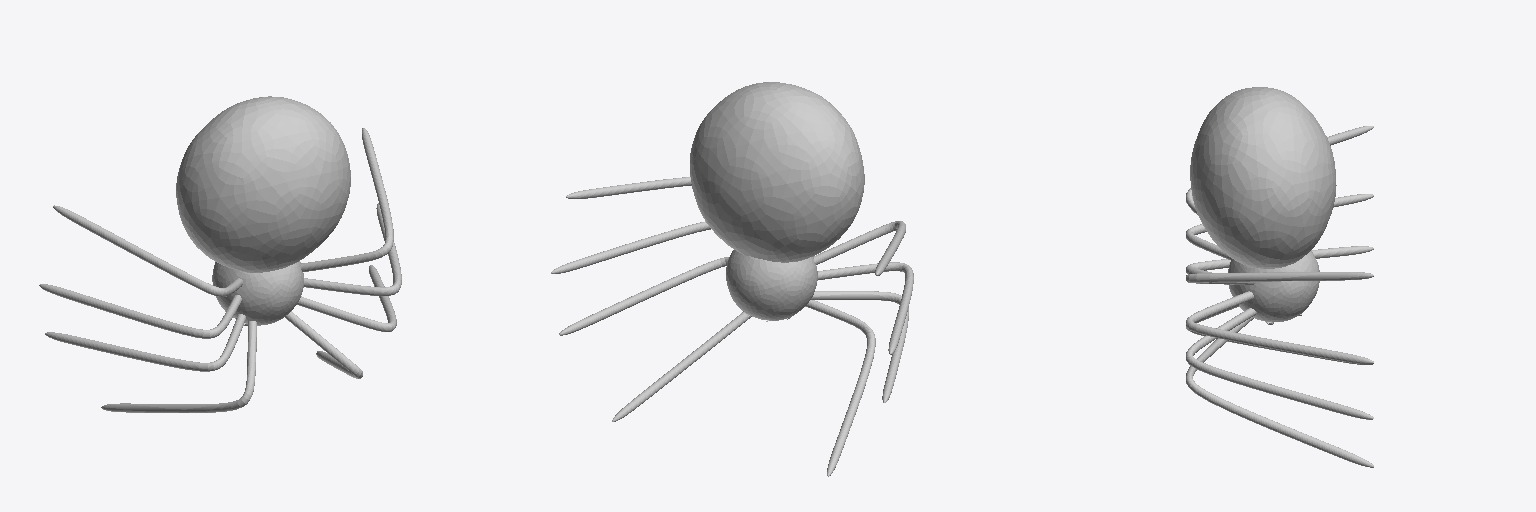
File: Spider.obj
3 views of the same model, side by side, from view 1: azimuth 30°, elevation 25°; view 2: azimuth 150°, elevation 25°; view 3: azimuth 270°, elevation 25° (orthographic).
Visible parts, largest first — view 1: SpiderModel_Icosphere; view 2: SpiderModel_Icosphere; view 3: SpiderModel_Icosphere.
Part boxes in pixels (bbox=[...]): SpiderModel_Icosphere: bbox=[39, 96, 401, 412]; SpiderModel_Icosphere: bbox=[551, 82, 913, 476]; SpiderModel_Icosphere: bbox=[1186, 87, 1373, 467].
Size of the model in its own units: 3.79 by 3.42 by 1.82.